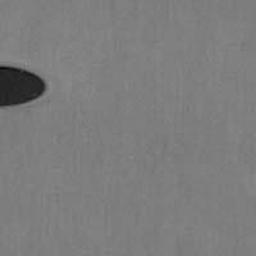Punching: (0, 66, 46, 107)
